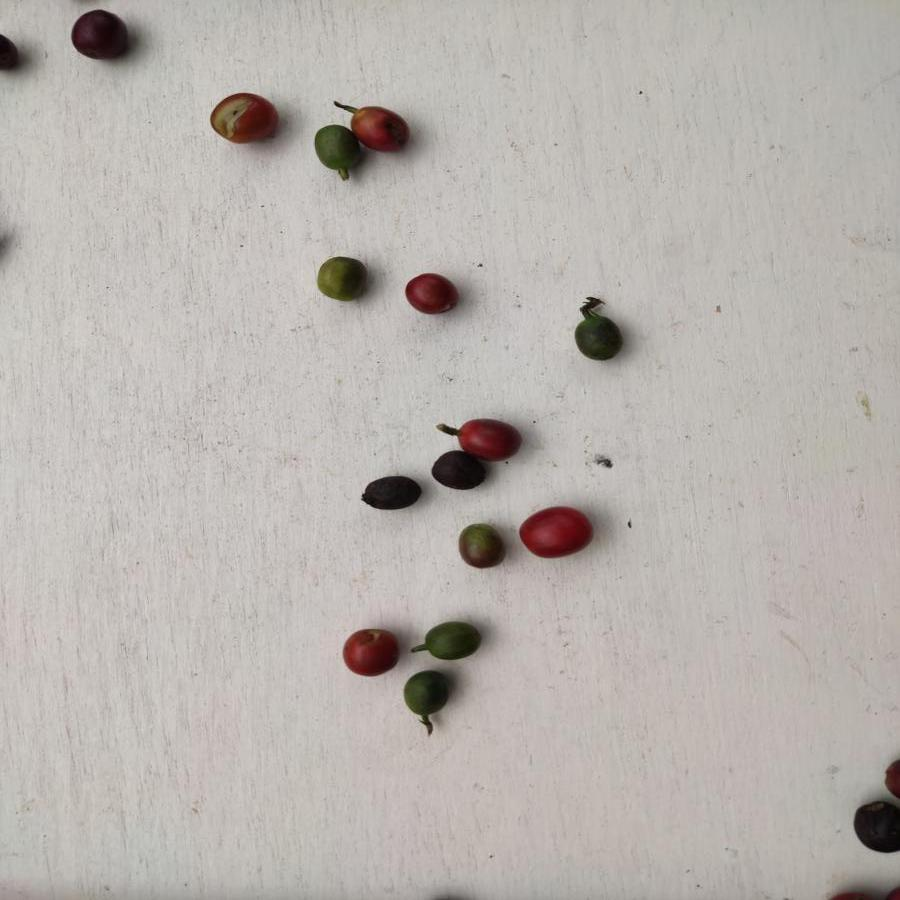Inmaduro: (307, 120, 362, 172), (571, 311, 624, 361), (400, 670, 450, 715), (424, 620, 480, 660)
Maduro: (205, 89, 281, 146), (516, 505, 593, 559), (339, 626, 397, 678), (454, 415, 521, 458), (402, 271, 461, 318), (361, 102, 411, 152)
Pinton: (315, 257, 369, 305), (456, 521, 505, 571)
Sobremaduro: (73, 9, 131, 67), (850, 798, 900, 861), (361, 474, 424, 511), (428, 454, 488, 492)
